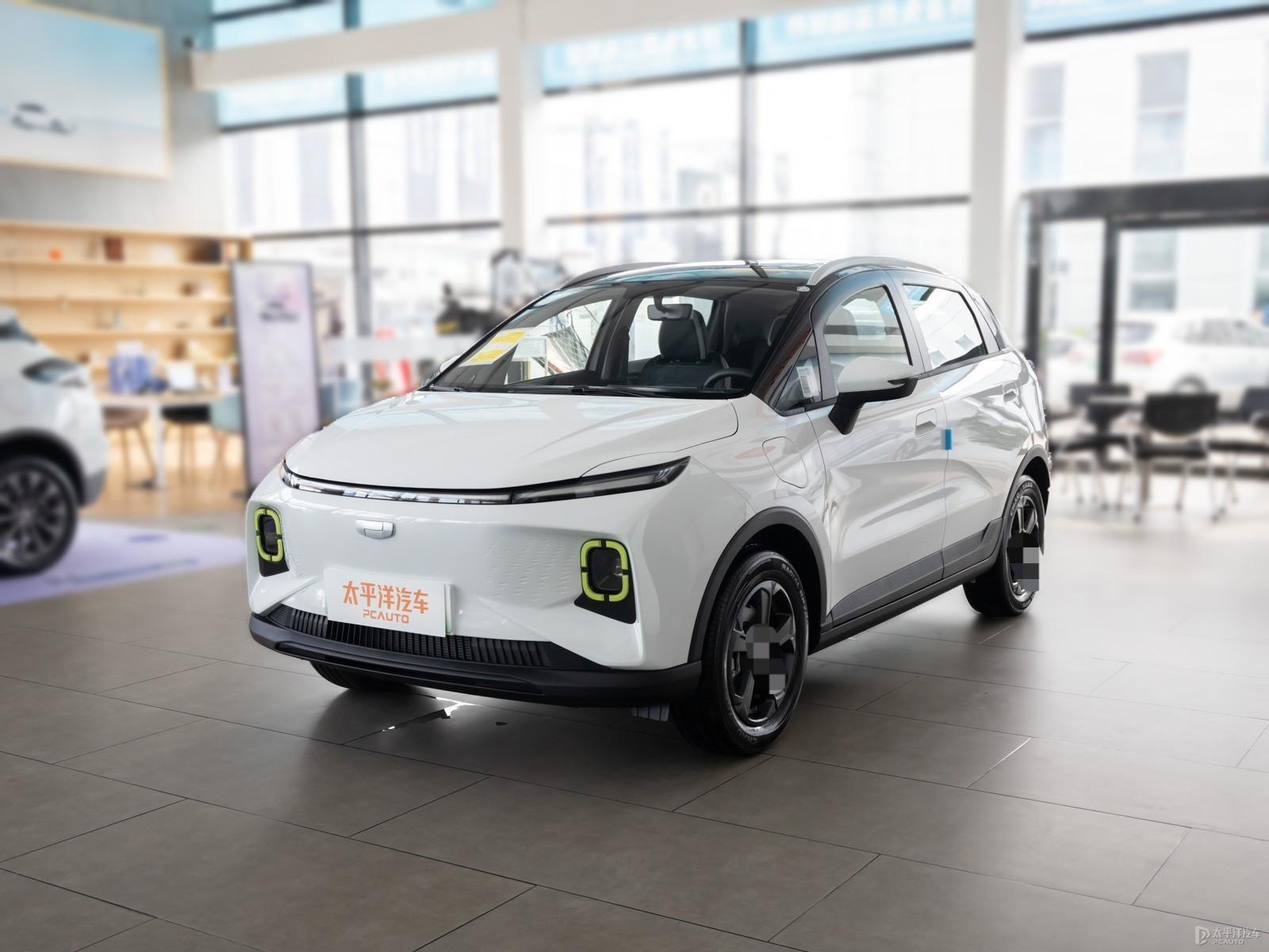GEOMETRY: (355, 520, 393, 539)
